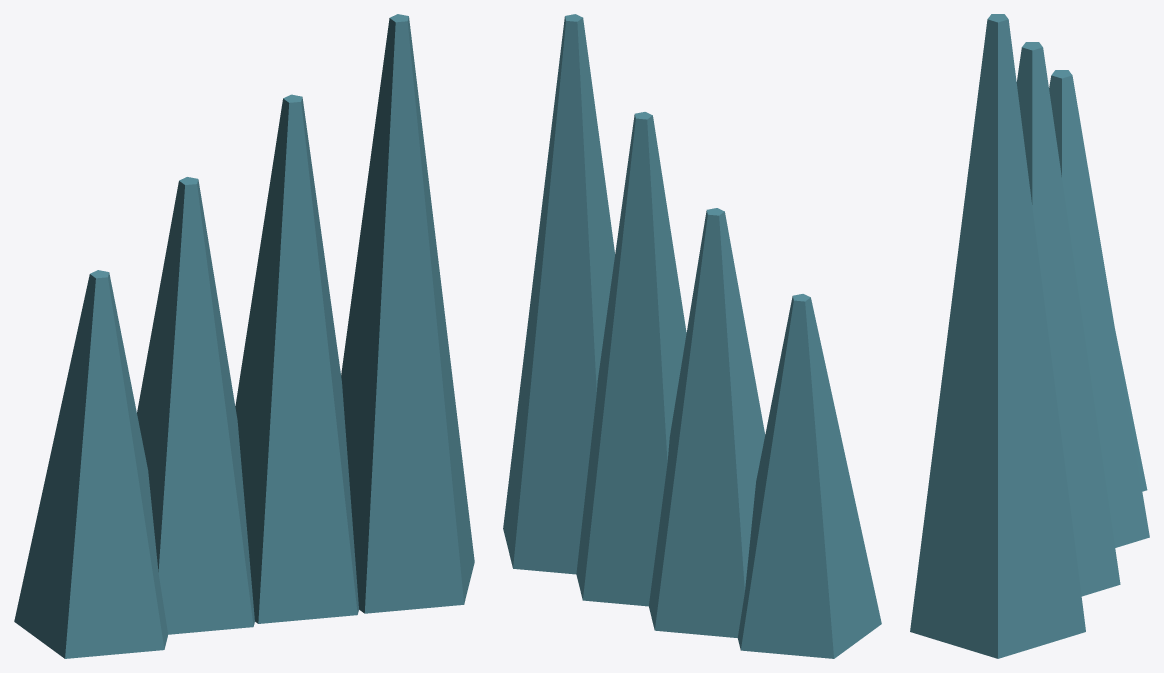
File: map-boundaries-v5__frost_02.glb
3 renders of one model, left to right at view 1: azimuth 30°, elevation 25°; view 2: azimuth 150°, elevation 25°; view 3: azimuth 270°, elevation 25°, orthographic. The views are drawn at different scales.
Parts seen in each view (by area): view 1: frost_02; view 2: frost_02; view 3: frost_02.
Boxes of the visible parts, box(x1,y1,x2,y2) form: frost_02: box(14, 14, 474, 658); frost_02: box(503, 14, 881, 658); frost_02: box(910, 14, 1149, 658).
Bounding box in the file's own units: 1.57 × 2.08 × 0.7515.
